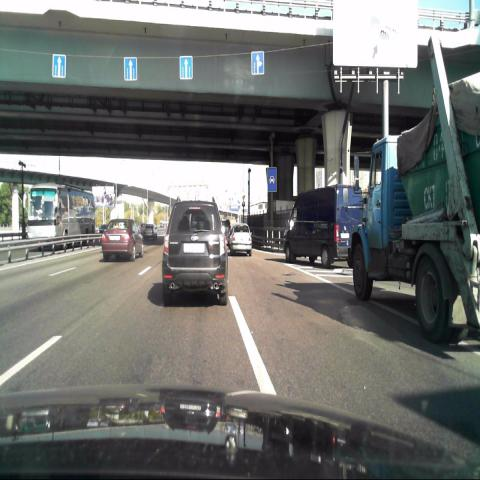5_3: (265, 166, 277, 193)
